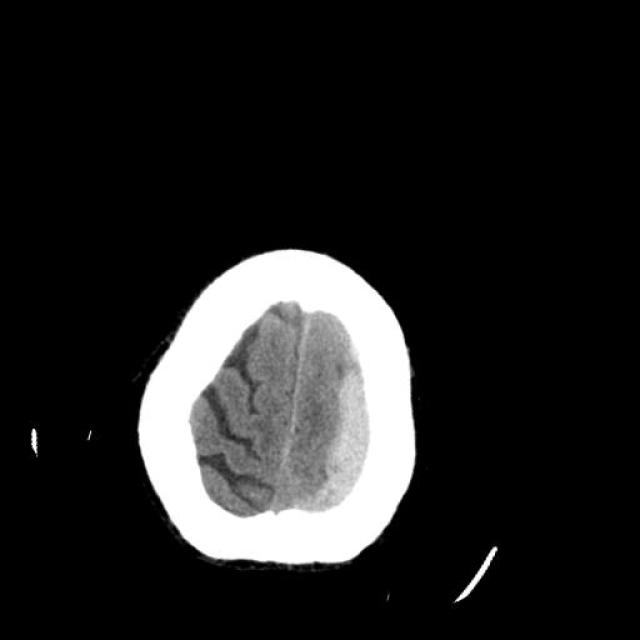Subdural: (295, 333, 417, 532)
